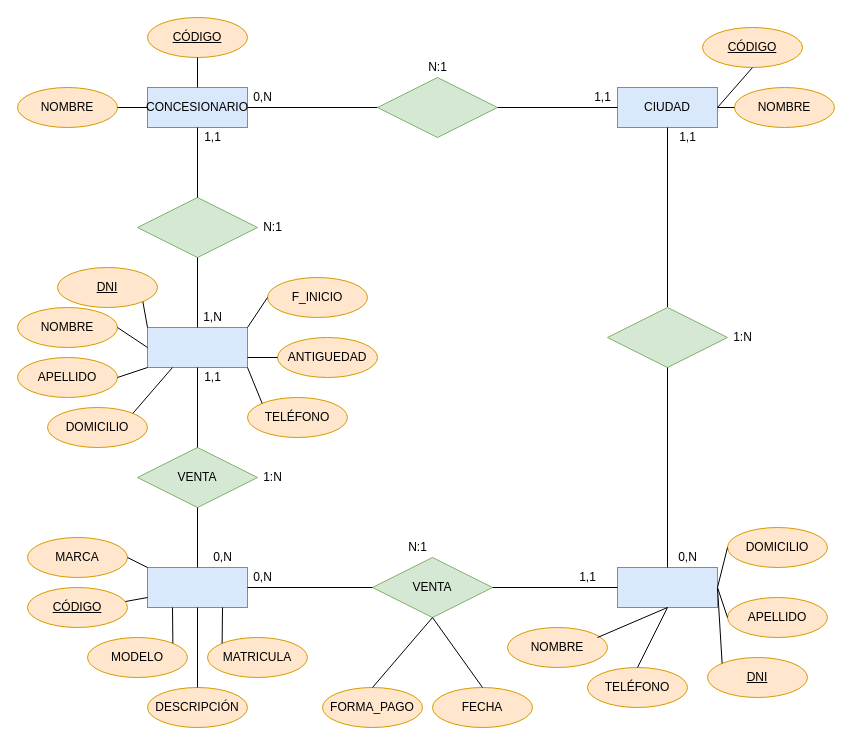
This 852x753 diagram has some shape labels left out. The shapes that lost their labels are listed below. From the top down, each one's centre as x and y in pixels, then its label:
the point at 437,107: DISTRIBUYE
the point at 197,227: TRABAJA
the point at 197,347: EMPLEADO
the point at 667,337: RESIDIR
the point at 197,587: COCHE
the point at 667,587: CLIENTE
